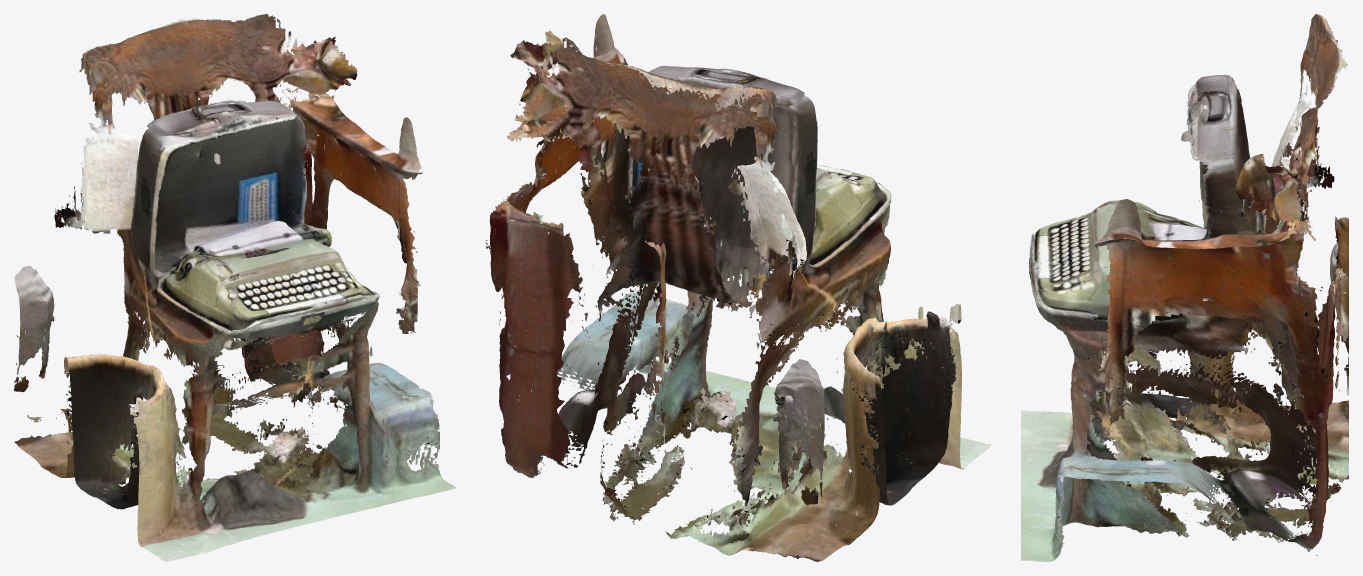
File: antique_typewriter.lod1.glb
3 renders of one model, left to right at view 1: azimuth 30°, elevation 25°; view 2: azimuth 150°, elevation 25°; view 3: azimuth 270°, elevation 25°, orthographic. The views are drawn at different scales.
Visible parts, largest first — view 1: Object_3, Object_2, Object_4; view 2: Object_3, Object_2, Object_4; view 3: Object_3, Object_2, Object_4.
Part boxes in pixels (x1,y1,x2,y2): Object_3: [17, 17, 437, 554]; Object_2: [14, 14, 456, 561]; Object_4: [20, 16, 442, 550]; Object_3: [493, 59, 976, 557]; Object_2: [485, 14, 992, 561]; Object_4: [486, 29, 961, 550]; Object_3: [1025, 14, 1348, 555]; Object_2: [1021, 31, 1348, 561]; Object_4: [1026, 39, 1348, 559].
Size of the model in its own units: 0.722 by 1.02 by 0.652.
1 material, 1 textured.
